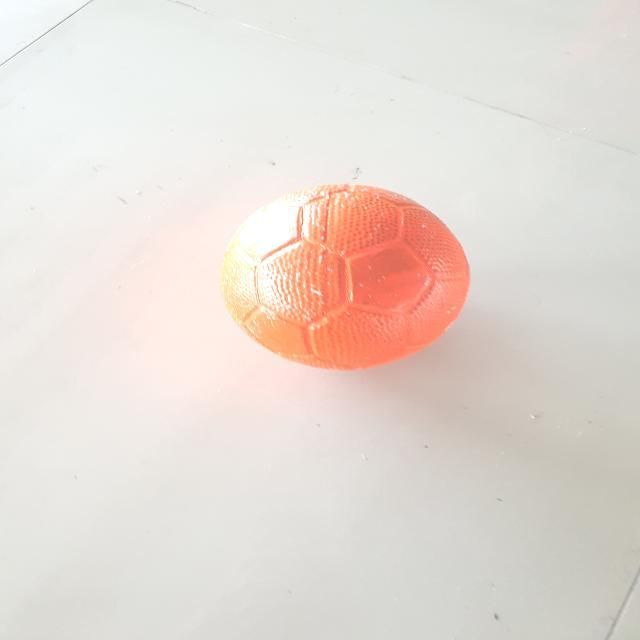bola: (212, 178, 480, 378)
